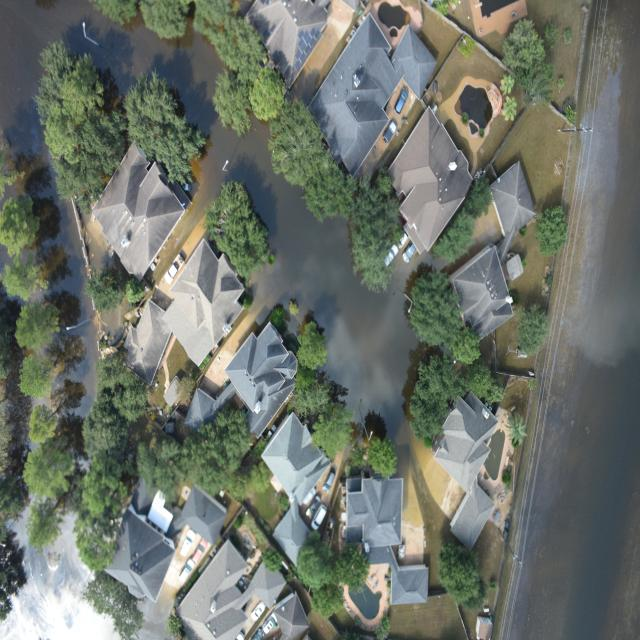fire: (0, 0, 420, 439), (497, 0, 640, 640), (0, 507, 119, 640), (0, 509, 117, 640), (35, 177, 91, 320), (72, 324, 97, 416)
